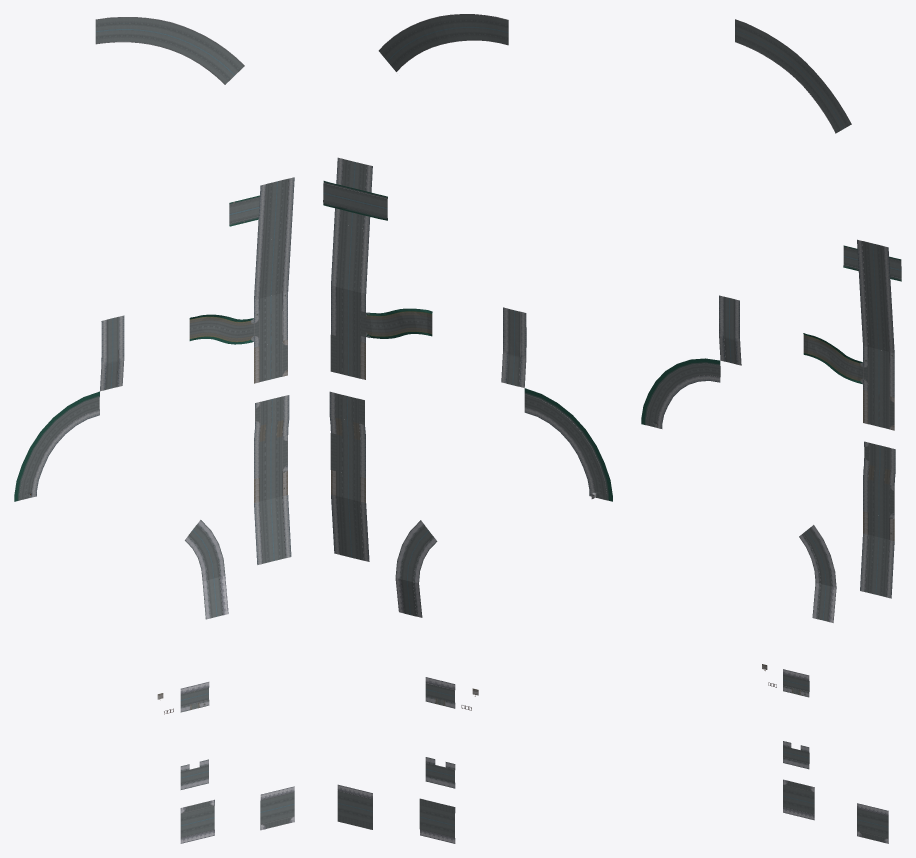
The model's file is industnw_industnw__part_04.obj.
3 renders of one model, left to right at view 1: azimuth 30°, elevation 25°; view 2: azimuth 150°, elevation 25°; view 3: azimuth 330°, elevation 25°, orthographic. The views are drawn at different scales.
Visible parts, largest first — view 1: industnw_industnw__part_04; view 2: industnw_industnw__part_04; view 3: industnw_industnw__part_04.
Boxes of the visible parts, x1,y1,x2,y2 form: industnw_industnw__part_04: (14, 17, 294, 843); industnw_industnw__part_04: (323, 14, 612, 843); industnw_industnw__part_04: (641, 19, 901, 843).
Size of the model in its own units: 245 by 704 by 25.01.
96 materials, 96 textured.
